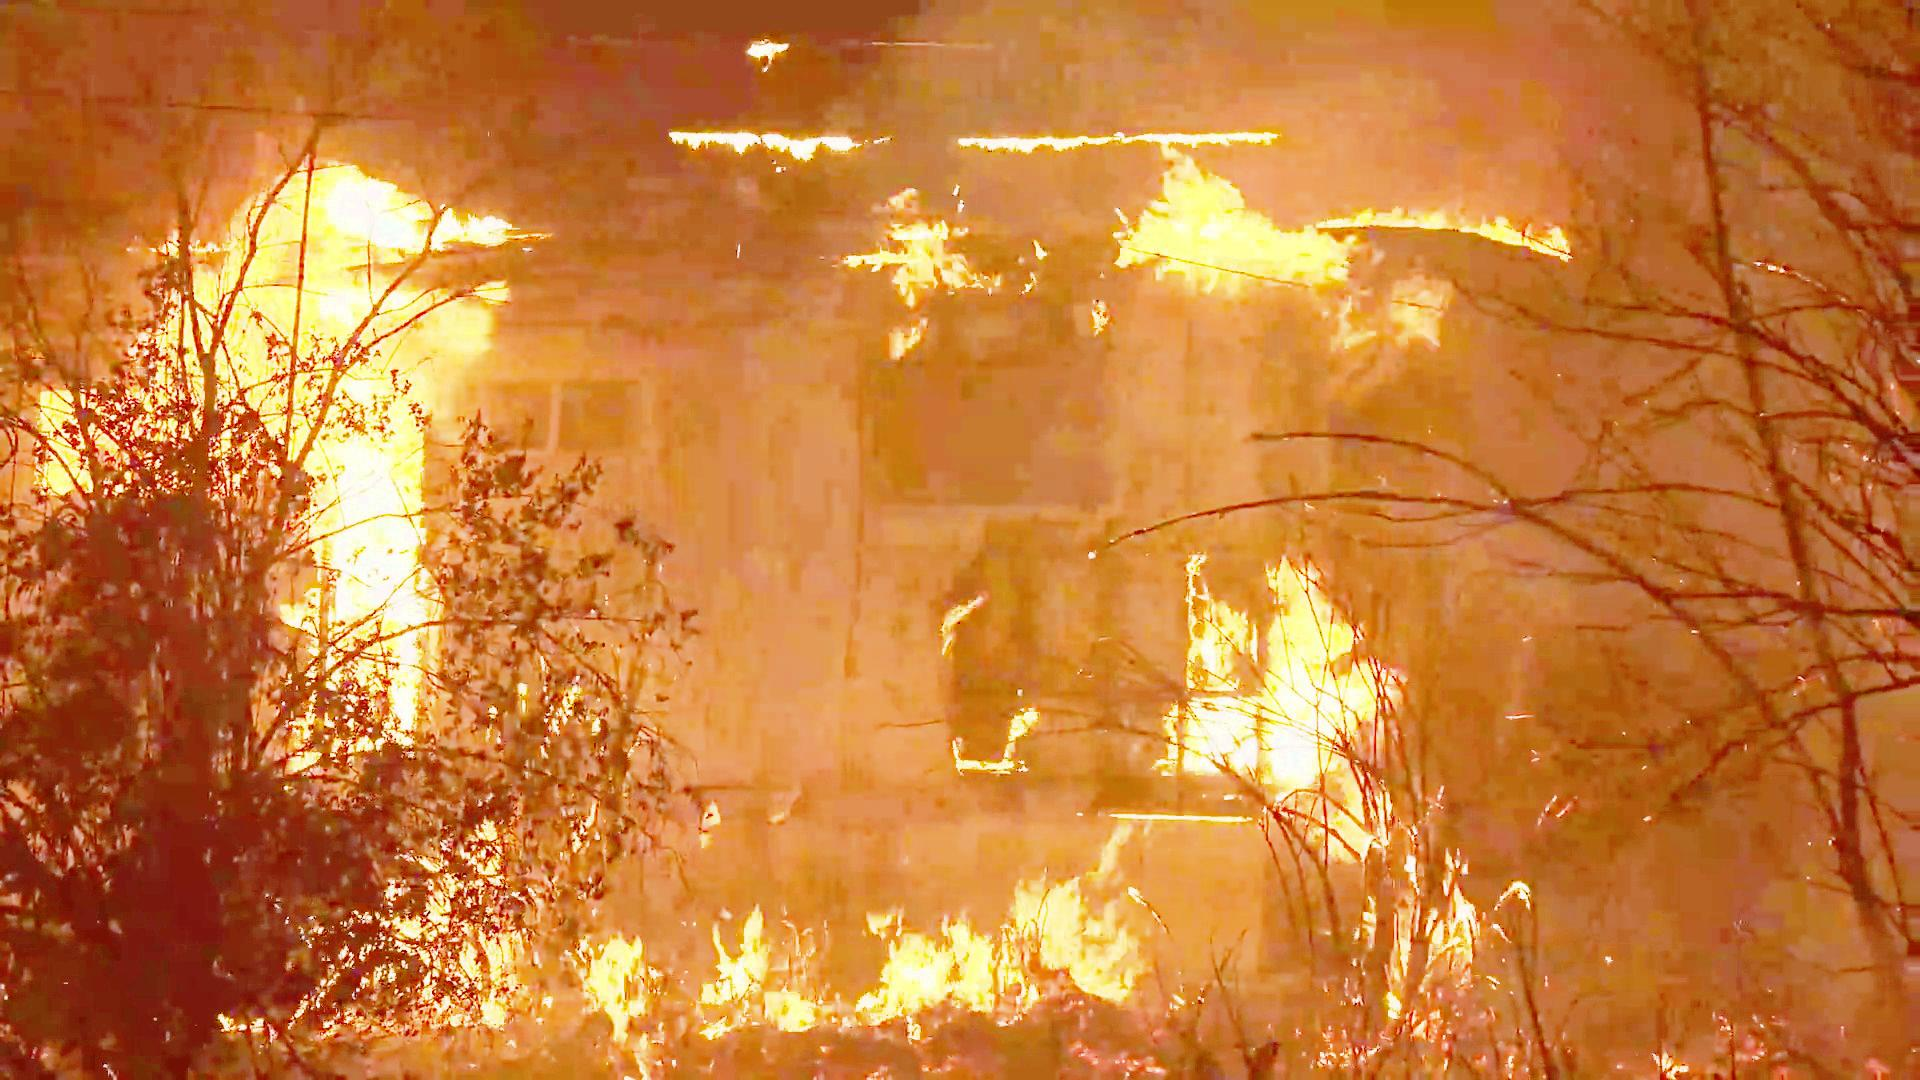fire: (265, 136, 526, 716), (1153, 543, 1399, 766), (901, 843, 1155, 1033), (1130, 138, 1389, 305)
